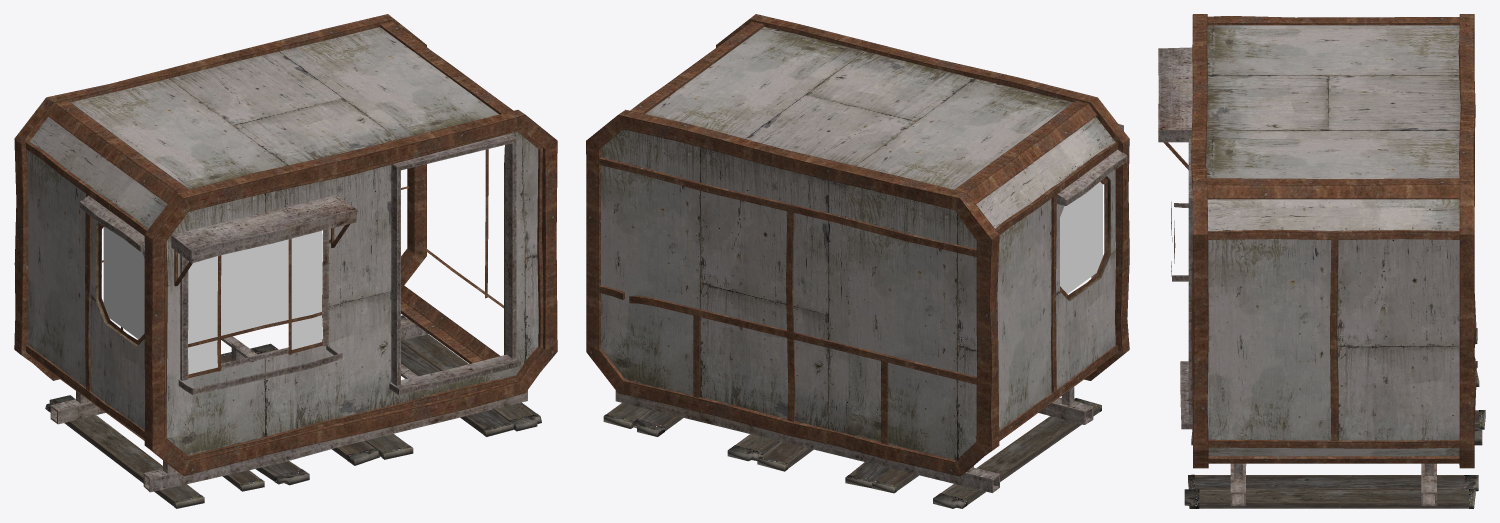
File: rentable_shop_d_exterior.glb
3 renders of one model, left to right at view 1: azimuth 30°, elevation 25°; view 2: azimuth 150°, elevation 25°; view 3: azimuth 270°, elevation 25°, orthographic. The views are drawn at different scales.
Parts seen in each view (by area): view 1: rentable_shop_D_exterior_LOD0; view 2: rentable_shop_D_exterior_LOD0; view 3: rentable_shop_D_exterior_LOD0.
Part boxes in pixels (left/top/right/bottom): rentable_shop_D_exterior_LOD0: left=14, top=14, right=557, bottom=508; rentable_shop_D_exterior_LOD0: left=586, top=14, right=1129, bottom=508; rentable_shop_D_exterior_LOD0: left=1158, top=14, right=1485, bottom=508.
Size of the model in its own units: 4.19 by 3.04 by 2.83.
4 materials, 3 textured.
